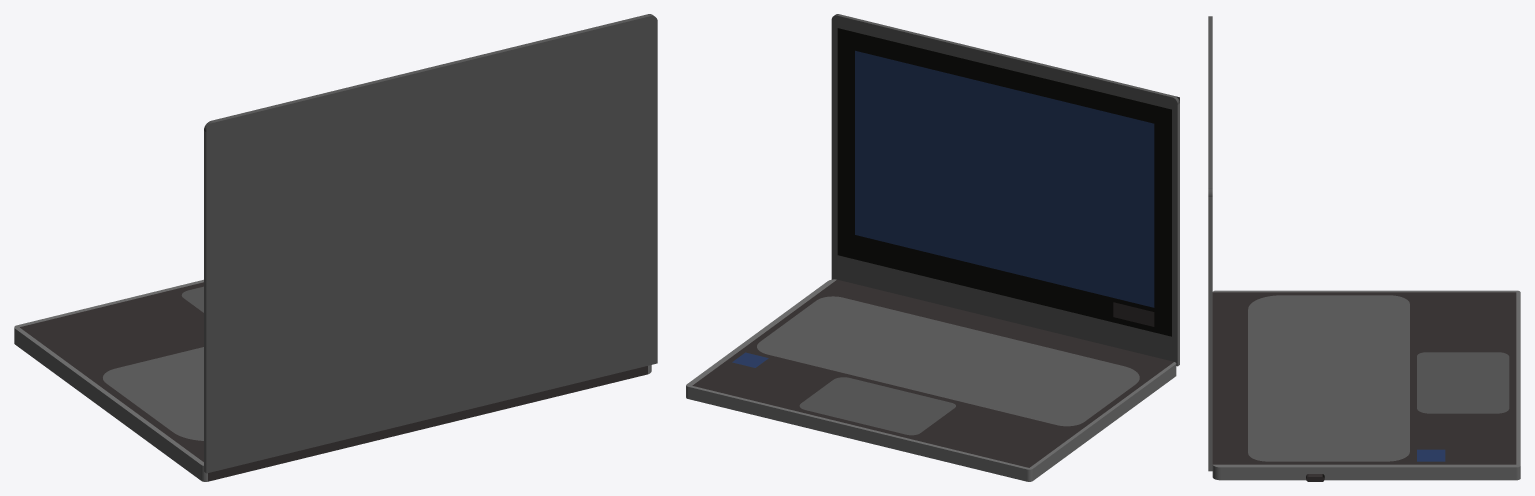
File: Computerskectchup.obj
3 views of the same model, side by side, from view 1: azimuth 30°, elevation 25°; view 2: azimuth 150°, elevation 25°; view 3: azimuth 270°, elevation 25° (orthographic). The views are drawn at different scales.
Visible parts, largest first — view 1: Mesh1 Model; view 2: Mesh1 Model; view 3: Mesh1 Model.
Part boxes in pixels (bbox=[...]): Mesh1 Model: bbox=[14, 14, 657, 481]; Mesh1 Model: bbox=[686, 14, 1179, 481]; Mesh1 Model: bbox=[1208, 16, 1520, 481].
Size of the model in its own units: 30 by 22.5 by 22.
